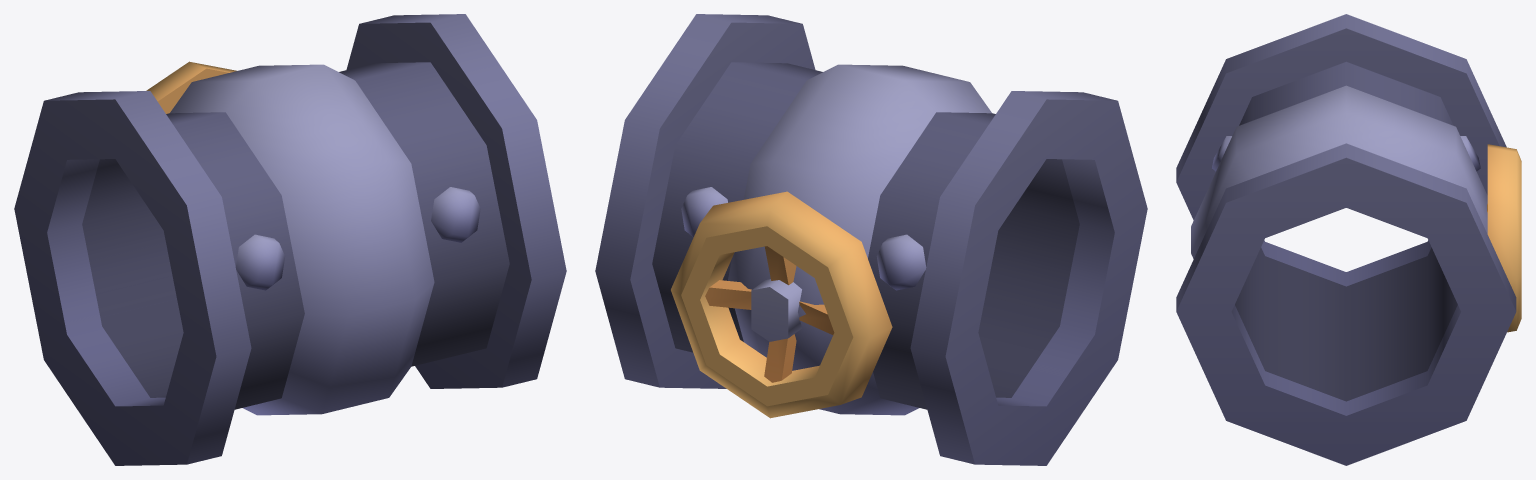
Rendered from cc0-pipe-valve-lod1.glb.
The picture shows the model from 3 angles, left to right: view 1: azimuth 30°, elevation 25°; view 2: azimuth 150°, elevation 25°; view 3: azimuth 270°, elevation 25°; orthographic projection. The views are drawn at different scales.
Visible parts, largest first — view 1: part_0; view 2: part_0; view 3: part_0.
Part boxes in pixels (bbox=[...]): part_0: bbox=[14, 14, 566, 465]; part_0: bbox=[595, 14, 1147, 465]; part_0: bbox=[1176, 14, 1521, 465].
Size of the model in its own units: 1 by 1 by 1.02.
1 material, 1 textured.
